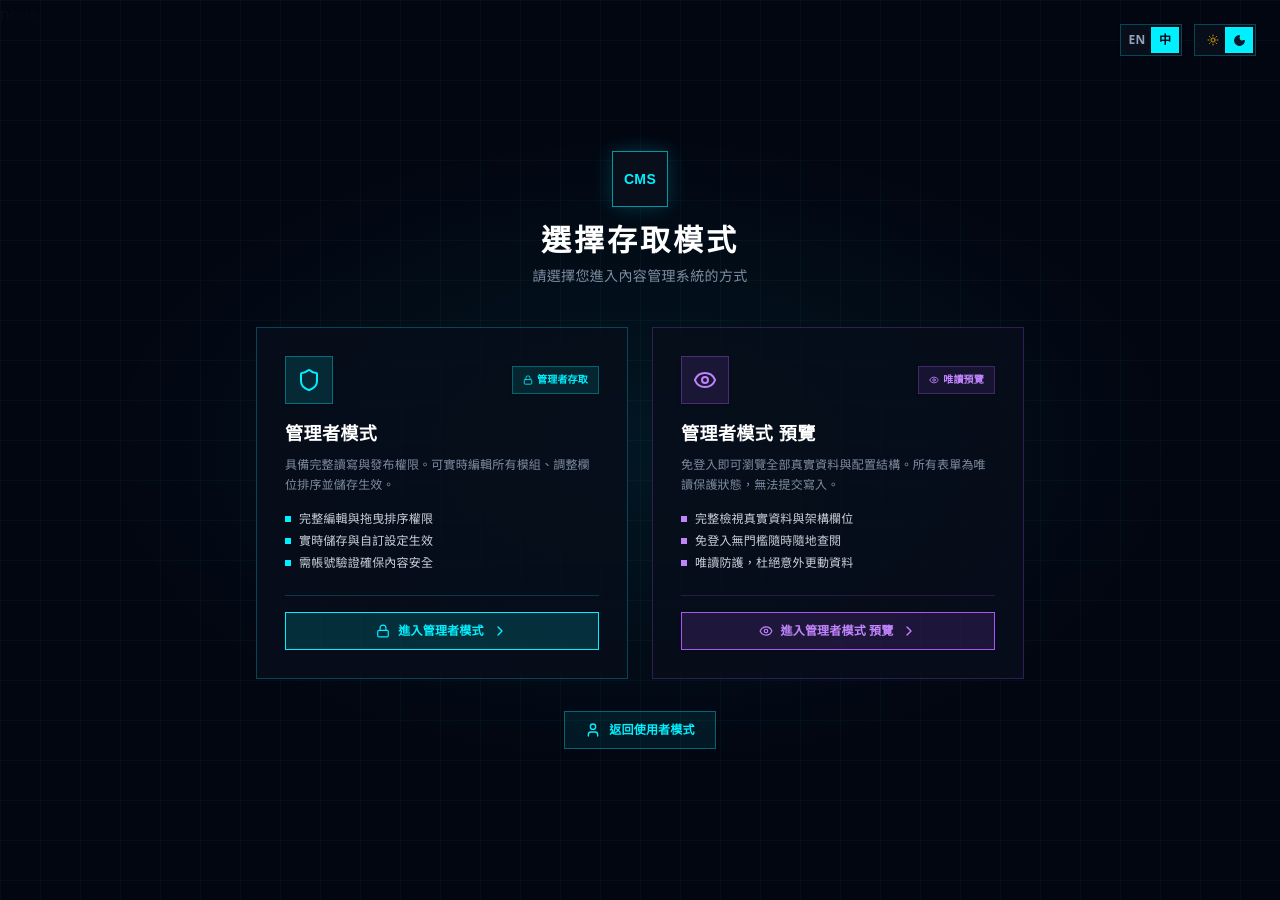
Test case: CMS 模式選擇畫面測試 (CmsModeSelectDialog) › 在模式選擇畫面點擊「返回使用者模式」會彈出二次確認，按下「確認返回」後註冊 sessionStorage
The image size is (1280, 900).
Click the button "返回使用者模式": {"x": 640, "y": 730} [564,711,716,749]
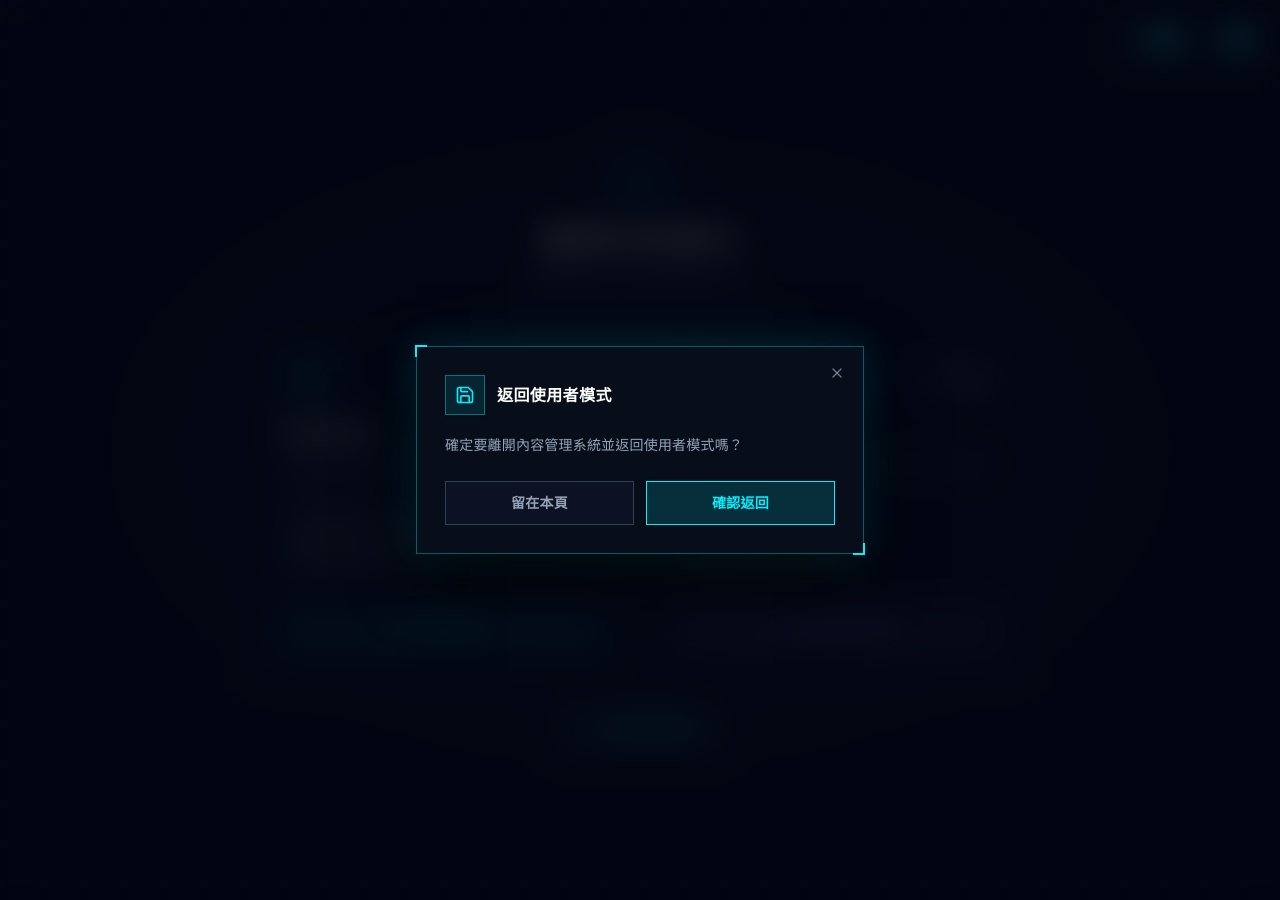
Expected: the dialog is shown
Expected: the text "確定要離開內容管理系統並返回使用者模式嗎？" is shown, [445,438,743,453]
Click the button "確認返回": {"x": 740, "y": 503} [646,481,835,525]
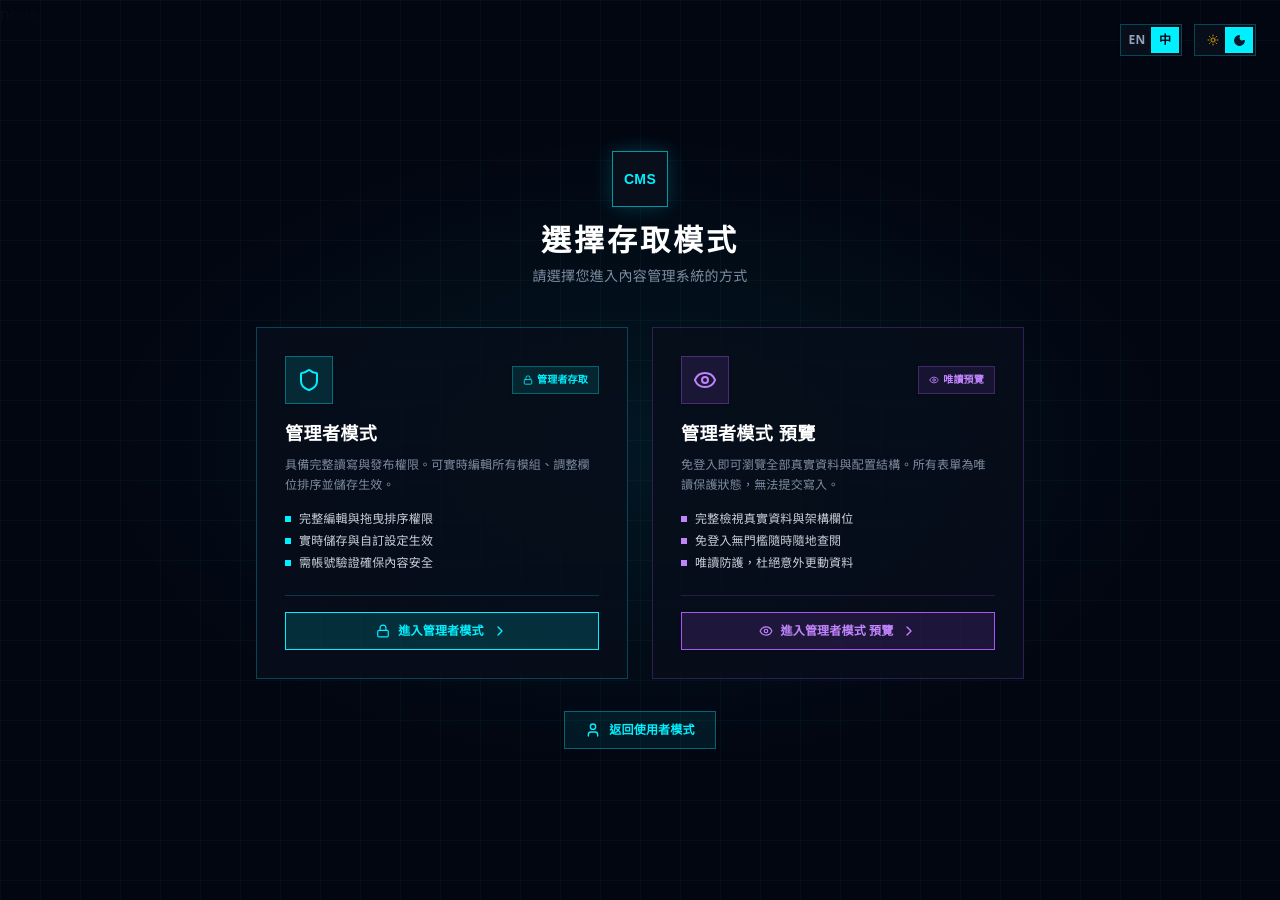
Expected: the dialog is gone
